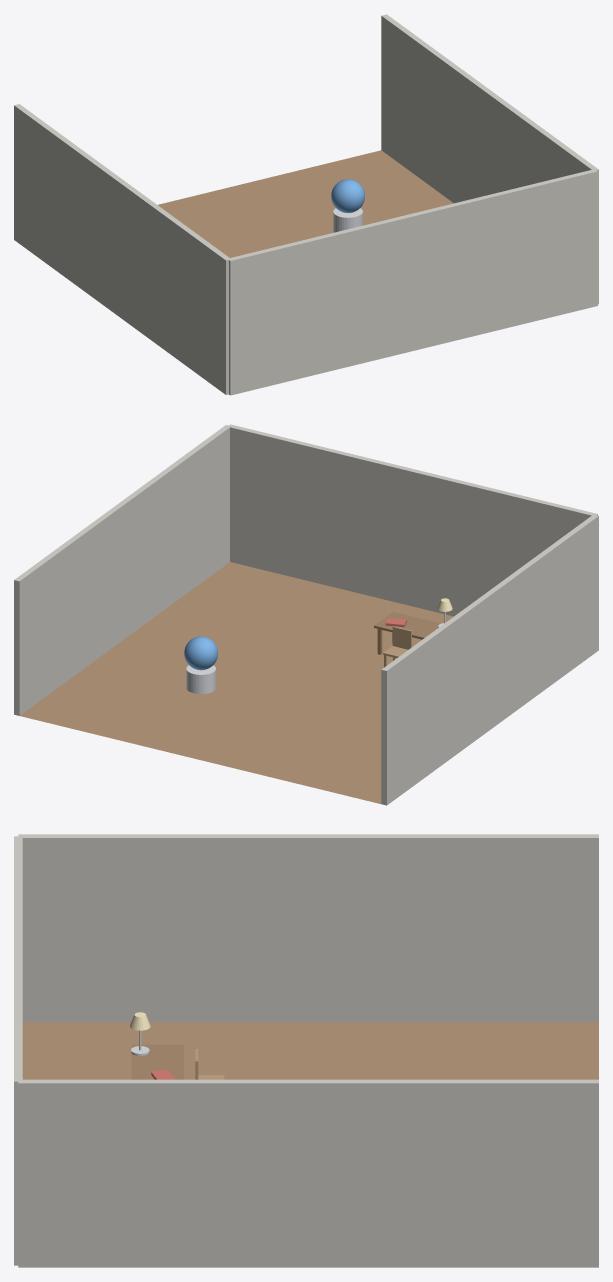
The picture shows the model from 3 angles, top to bottom: view 1: azimuth 30°, elevation 25°; view 2: azimuth 150°, elevation 25°; view 3: azimuth 270°, elevation 25°; orthographic projection. The views are drawn at different scales.
Parts seen in each view (by area): view 1: Wall_Back, Wall_Left, Wall_Right, Floor, DisplayBall, Pedestal; view 2: Floor, Wall_Back, Wall_Left, Wall_Right, Desk, DisplayBall, Pedestal, Chair; view 3: Wall_Right, Wall_Left, Floor, Wall_Back, Desk.
Part boxes in pixels (x1,y1,x2,y2): Wall_Back: (227,169,597,395); Wall_Left: (14,104,229,394); Wall_Right: (381,14,598,304); Floor: (158,150,453,257); DisplayBall: (331,179,364,212); Pedestal: (333,208,362,232); Floor: (20,562,453,803); Wall_Back: (228,424,597,616); Wall_Left: (381,515,598,805); Wall_Right: (14,425,229,715); Desk: (374,611,441,654); DisplayBall: (184,636,217,670); Pedestal: (186,665,215,693); Chair: (383,626,411,667); Wall_Right: (18,1079,598,1267); Wall_Left: (18,834,598,1022); Floor: (22,1022,598,1079); Wall_Back: (14,836,22,1265); Desk: (131,1044,183,1079).
Bounding box in the file's own units: 10.15 × 3.5 × 10.08.
